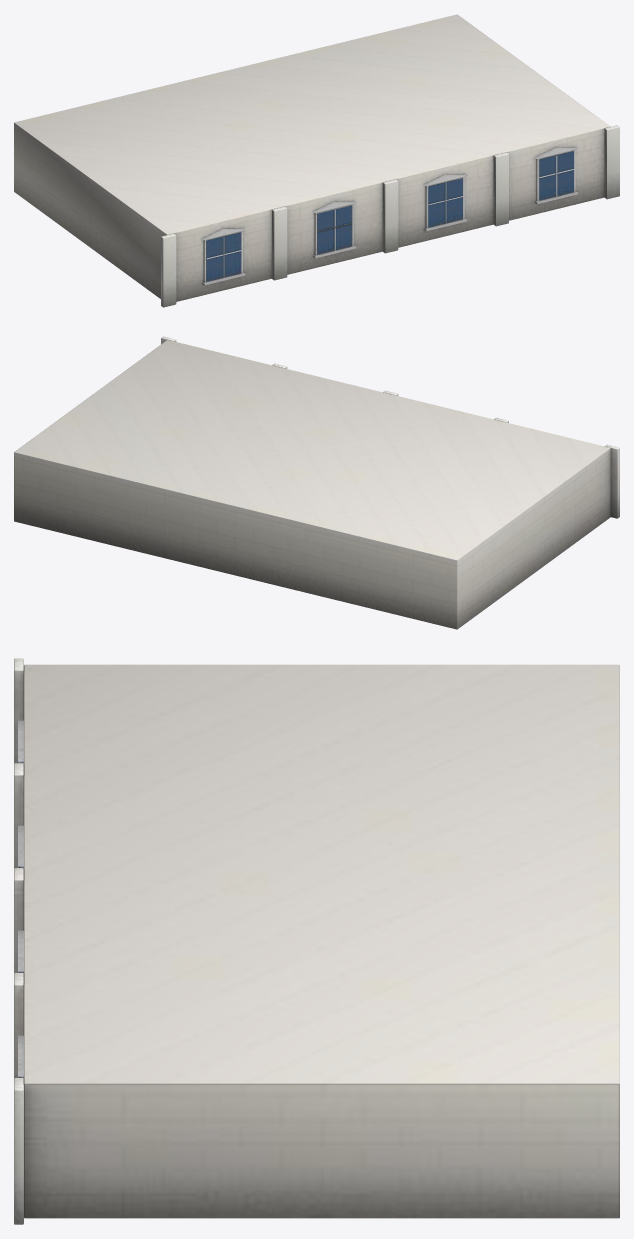
The model's file is planta_frontones.glb.
The picture shows the model from 3 angles, top to bottom: view 1: azimuth 30°, elevation 25°; view 2: azimuth 150°, elevation 25°; view 3: azimuth 270°, elevation 25°; orthographic projection. The views are drawn at different scales.
Visible parts, largest first — view 1: planta_frontones; view 2: planta_frontones; view 3: planta_frontones.
Boxes of the visible parts, x1,y1,x2,y2 form: planta_frontones: (14, 14, 619, 307); planta_frontones: (14, 336, 619, 629); planta_frontones: (14, 658, 619, 1224).
Bounding box in the file's own units: 20.6 × 3 × 12.2.
Materials: 1 (1 with a texture image).
